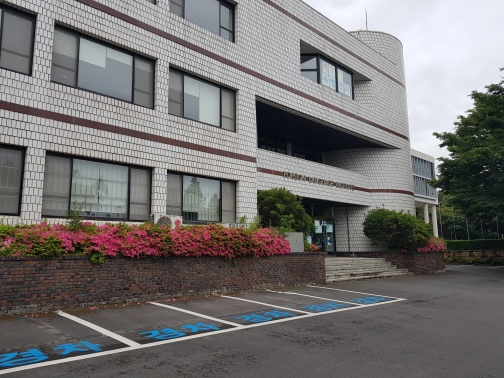Foreign Language Institute: (11, 3, 417, 290), (47, 24, 242, 150), (248, 135, 390, 280)
